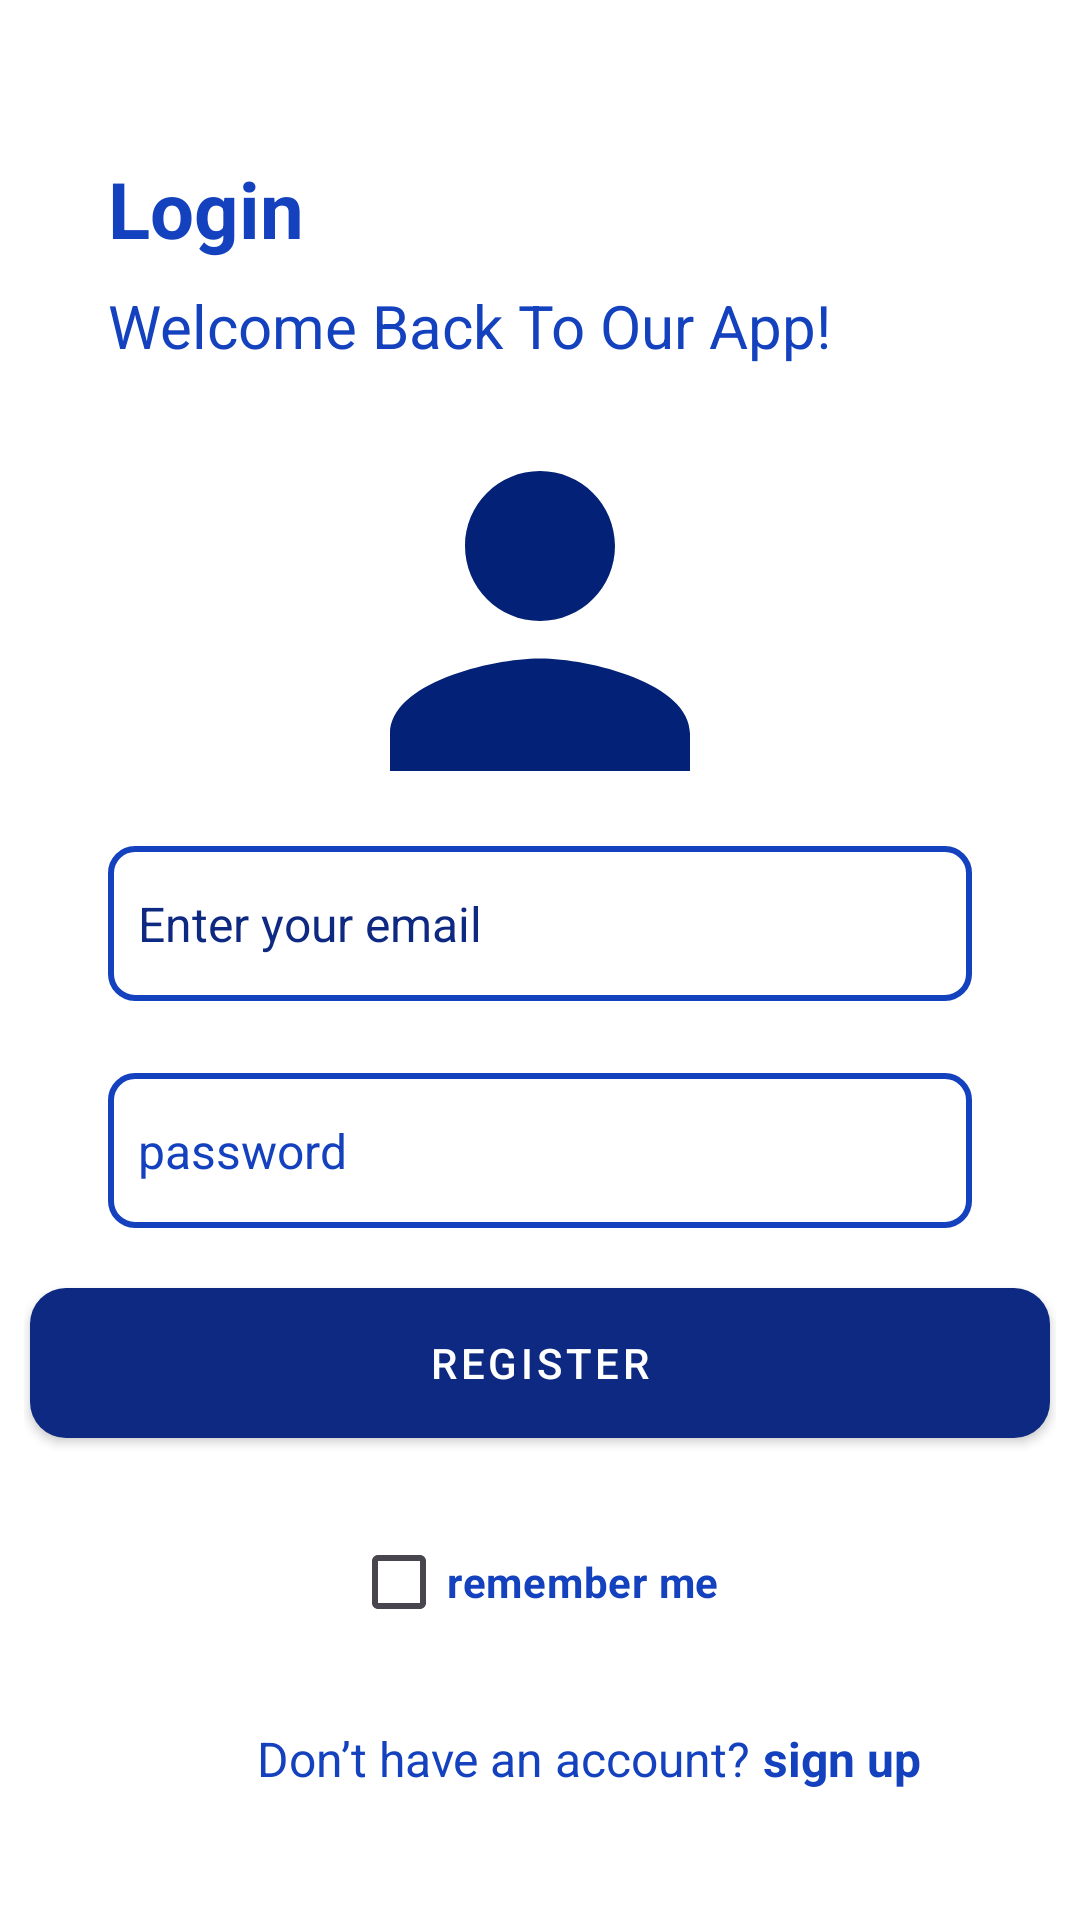

Named icons in this screenshot (1080x1920) and their centers, (x=x, y=y):
person: (x=540, y=621)
